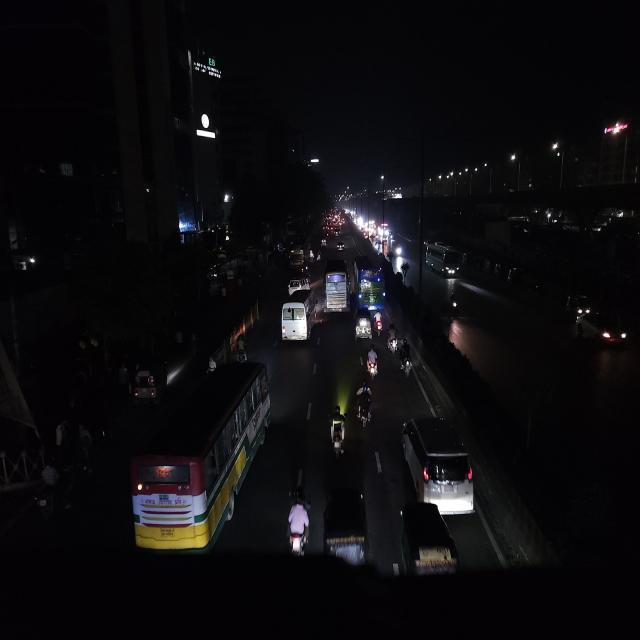bus: (123, 358, 270, 566), (279, 285, 320, 348), (352, 253, 386, 310), (321, 255, 351, 318), (425, 244, 463, 279)
car: (399, 411, 477, 517), (574, 308, 629, 351), (564, 292, 592, 320)
cng: (397, 500, 462, 589), (321, 482, 373, 580), (128, 354, 169, 407), (354, 306, 373, 341), (506, 264, 524, 290)
motorcycle: (284, 484, 312, 562), (326, 403, 348, 465), (354, 381, 374, 433), (398, 336, 414, 384), (364, 343, 380, 383), (386, 321, 399, 356), (448, 286, 461, 316), (372, 307, 384, 339), (336, 241, 346, 253)
